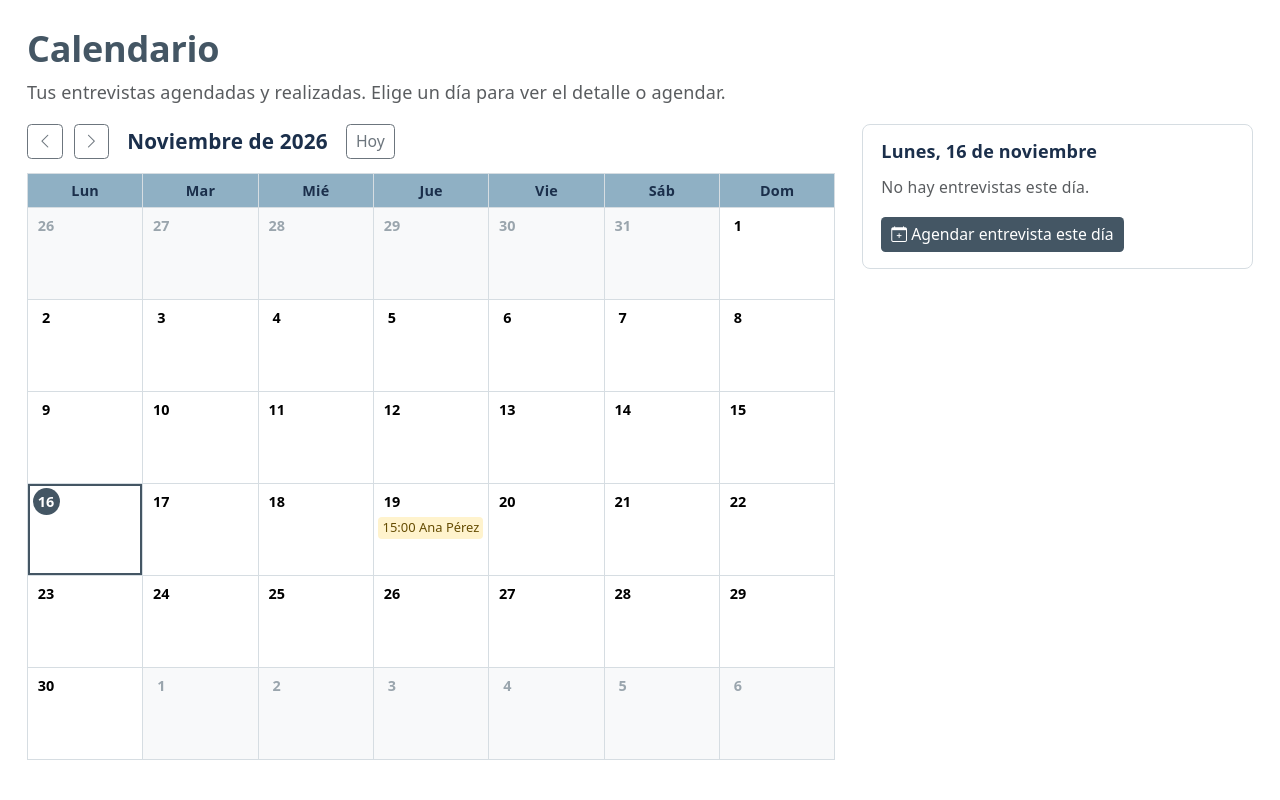
Calendario › muestra el detalle del día seleccionado
Expected: the text "15:00 Ana Pérez" is shown, [378,517,483,538]
Click the button with aria-label "19 de noviembre" at [432, 530], box [374,484,489,576]
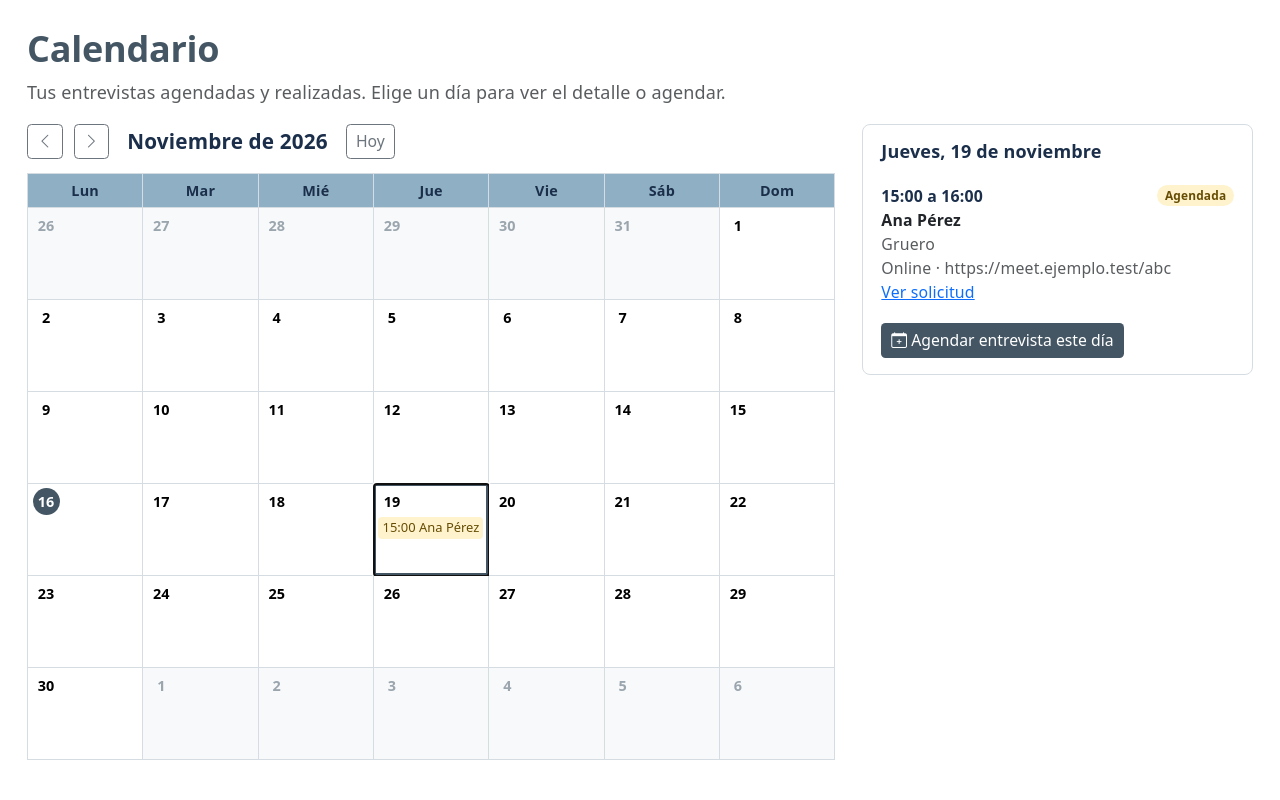
Result: the text "15:00 a 16:00" is shown at [881,186,983,209]
Result: the text "Online · https://meet.ejemplo.test/abc" is shown at [881,257,1171,279]
